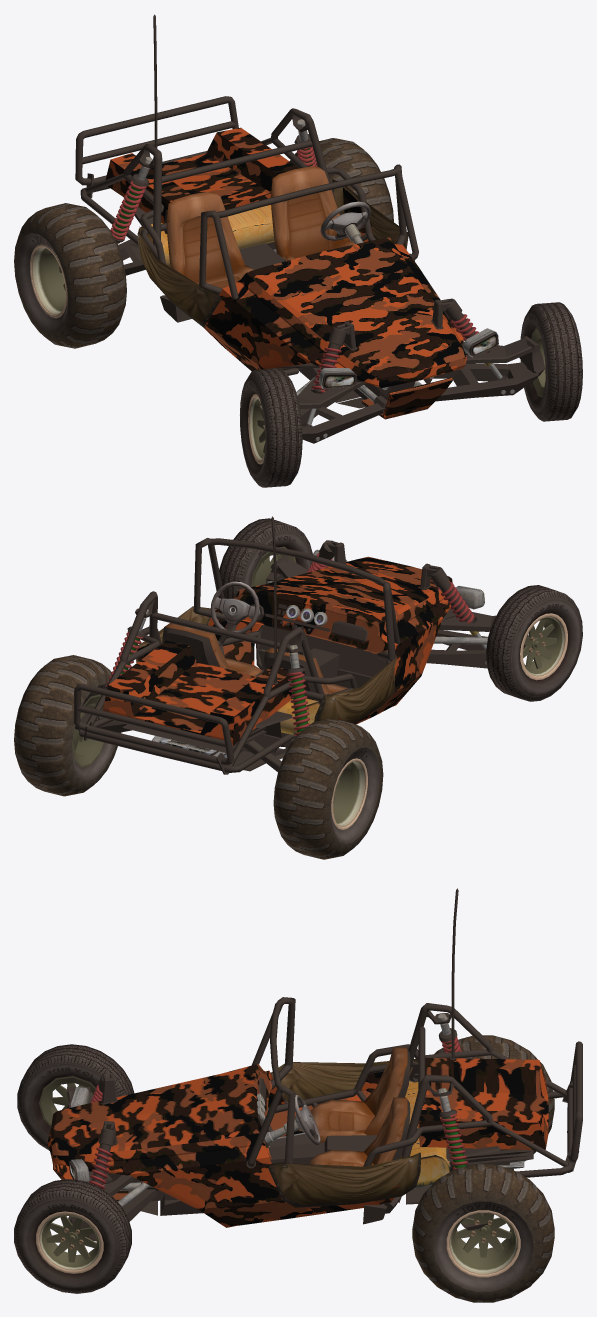
Rendered from car1.glb.
The picture shows the model from 3 angles, top to bottom: view 1: azimuth 30°, elevation 25°; view 2: azimuth 150°, elevation 25°; view 3: azimuth 270°, elevation 25°; orthographic projection. The views are drawn at different scales.
Parts seen in each view (by area): view 1: node_id99, node_id97, node_id41, node_id74, node_id77, node_id53, node_id67, node_id109, node_id60, node_id70, node_id105, node_id72 (+8 smaller); view 2: node_id99, node_id97, node_id74, node_id60, node_id77, node_id67, node_id65, node_id109, node_id63, node_id53, node_id70, node_id72 (+14 smaller); view 3: node_id99, node_id97, node_id60, node_id109, node_id41, node_id51, node_id56, node_id53, node_id58, node_id49, node_id67, node_id77 (+11 smaller).
Part boxes in pixels (left/top/right/bottom): node_id99: left=105, top=127, right=466, bottom=419; node_id97: left=75, top=96, right=418, bottom=412; node_id41: left=166, top=166, right=354, bottom=288; node_id74: left=14, top=203, right=126, bottom=348; node_id77: left=297, top=298, right=544, bottom=443; node_id53: left=528, top=302, right=582, bottom=421; node_id67: left=248, top=368, right=302, bottom=487; node_id109: left=138, top=179, right=408, bottom=328; node_id60: left=289, top=138, right=393, bottom=221; node_id70: left=30, top=244, right=67, bottom=318; node_id105: left=137, top=205, right=274, bottom=266; node_id72: left=17, top=233, right=67, bottom=332; node_id99: left=103, top=556, right=452, bottom=745; node_id97: left=73, top=538, right=400, bottom=774; node_id74: left=273, top=718, right=383, bottom=859; node_id60: left=14, top=655, right=120, bottom=796; node_id77: left=266, top=540, right=528, bottom=668; node_id67: left=486, top=585, right=582, bottom=701; node_id65: left=491, top=598, right=582, bottom=697; node_id109: left=136, top=606, right=397, bottom=723; node_id63: left=504, top=608, right=567, bottom=680; node_id53: left=219, top=518, right=312, bottom=598; node_id70: left=331, top=758, right=367, bottom=830; node_id72: left=330, top=747, right=379, bottom=843; node_id99: left=47, top=1057, right=548, bottom=1227; node_id97: left=105, top=997, right=582, bottom=1224; node_id60: left=412, top=1164, right=554, bottom=1302; node_id109: left=268, top=1059, right=420, bottom=1207; node_id41: left=310, top=1047, right=407, bottom=1166; node_id51: left=18, top=1192, right=124, bottom=1290; node_id56: left=446, top=1210, right=520, bottom=1277; node_id53: left=14, top=1179, right=131, bottom=1293; node_id58: left=433, top=1201, right=533, bottom=1291; node_id49: left=36, top=1211, right=103, bottom=1273; node_id67: left=17, top=1044, right=134, bottom=1150; node_id77: left=67, top=1072, right=156, bottom=1241.
Bounding box in the file's own units: 0.512 × 0.4716 × 0.7736.
Materials: 35 (35 with a texture image).
